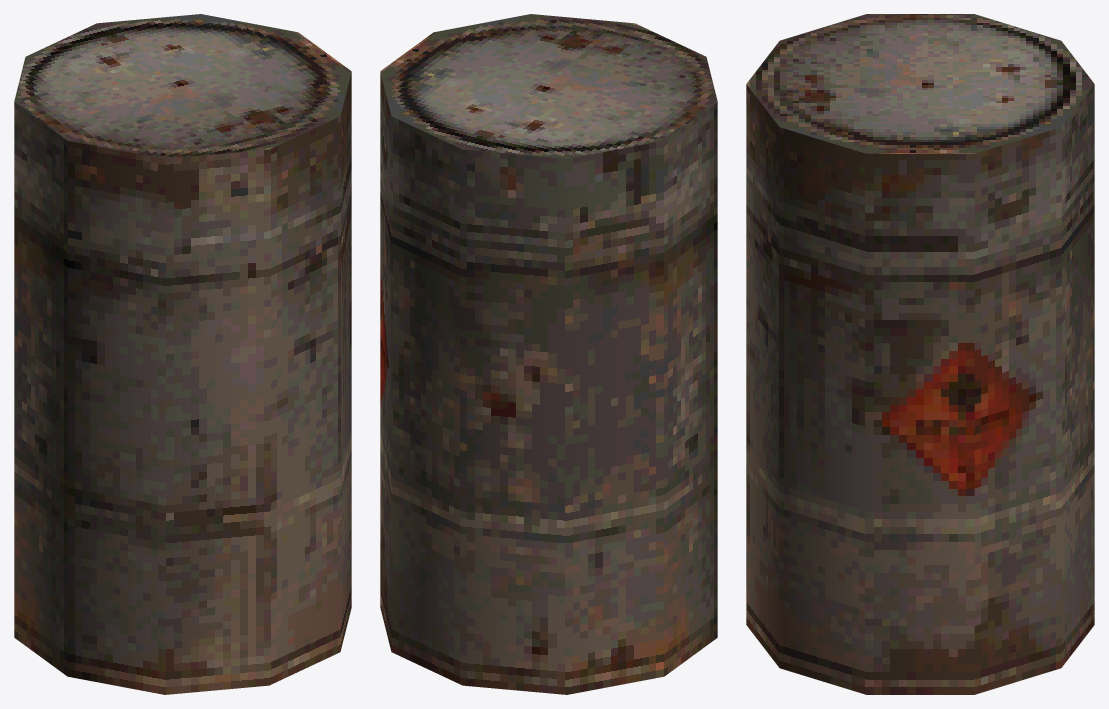
Rendered from barrel_3.glb.
3 renders of one model, left to right at view 1: azimuth 30°, elevation 25°; view 2: azimuth 150°, elevation 25°; view 3: azimuth 270°, elevation 25°, orthographic.
Parts seen in each view (by area): view 1: Barrel_3; view 2: Barrel_3; view 3: Barrel_3.
Part boxes in pixels (box(x1,y1,x2,y2)): Barrel_3: box(14, 14, 351, 694); Barrel_3: box(380, 14, 717, 694); Barrel_3: box(746, 14, 1094, 694).
Bounding box in the file's own units: 0.5297 × 0.9547 × 0.5569.
1 material, 1 textured.
